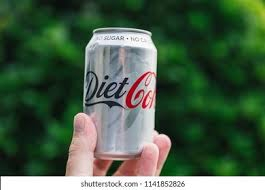can: (80, 24, 159, 160)
